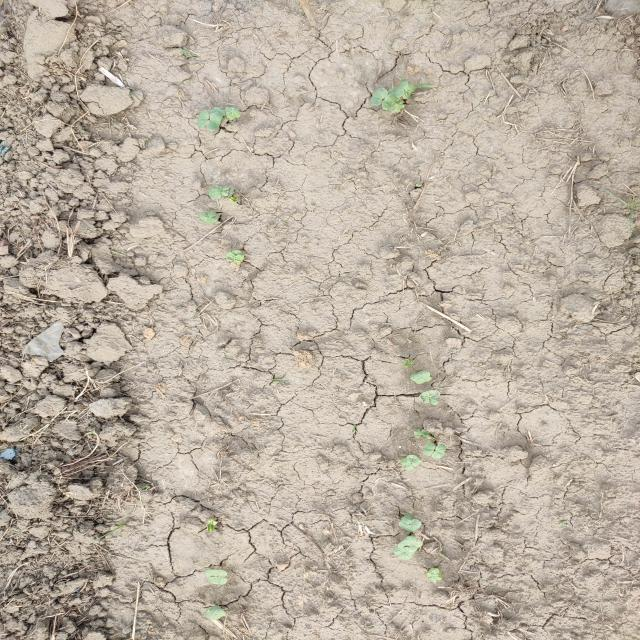seedling: (370, 88, 388, 106), (206, 112, 223, 131), (382, 94, 401, 110), (397, 535, 417, 549), (394, 81, 409, 97), (392, 546, 409, 560), (403, 82, 416, 100), (405, 519, 421, 533), (410, 370, 430, 381), (419, 390, 440, 400), (432, 444, 446, 459), (406, 454, 422, 467), (197, 110, 209, 127), (205, 606, 222, 618), (390, 99, 404, 113), (399, 515, 413, 529), (204, 569, 227, 577), (401, 458, 414, 471), (423, 442, 435, 456), (226, 250, 241, 261), (408, 541, 423, 552), (199, 216, 219, 224), (402, 546, 414, 559), (208, 577, 227, 585), (425, 568, 439, 578), (415, 376, 432, 384), (211, 611, 226, 620), (429, 573, 442, 583), (225, 107, 239, 116), (208, 191, 223, 199), (227, 112, 240, 121), (423, 398, 439, 405), (233, 253, 244, 263), (209, 186, 223, 193), (199, 212, 217, 217), (420, 430, 430, 439), (414, 429, 422, 439)
